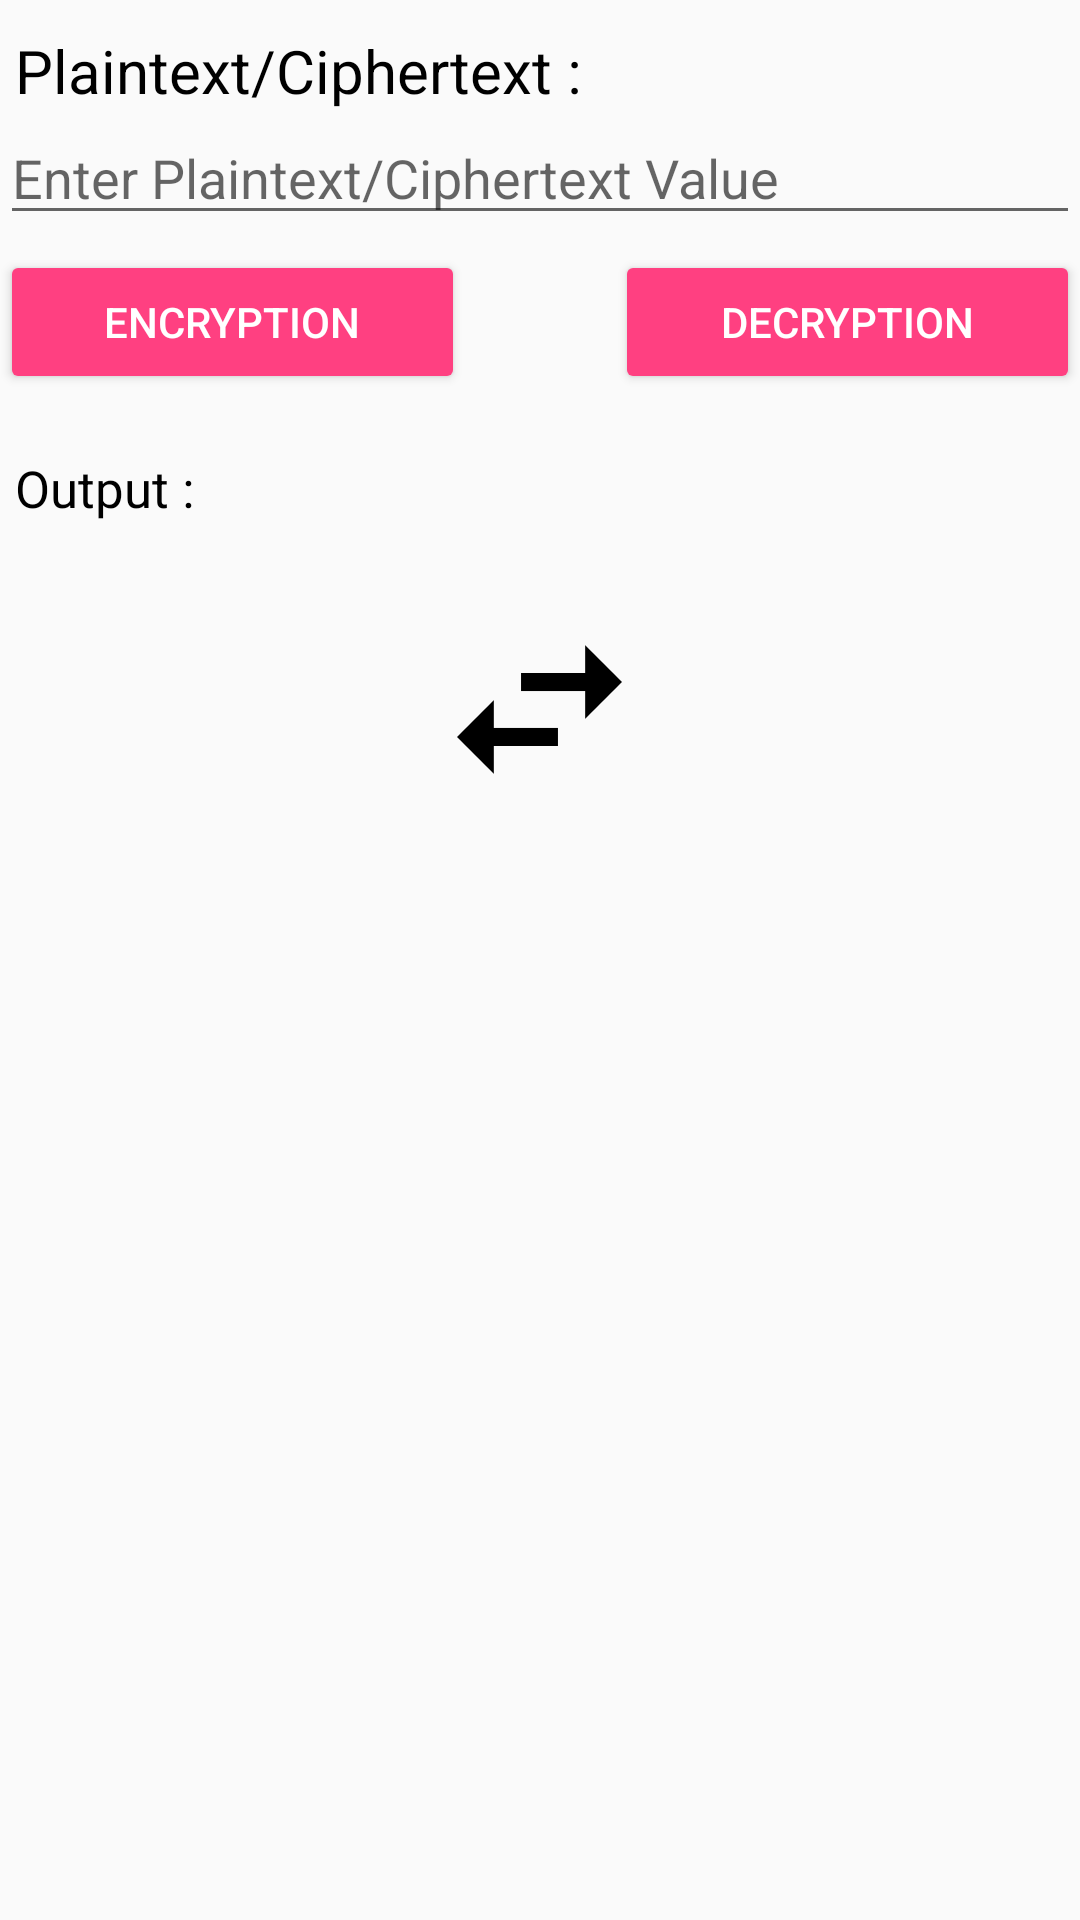

Point at icon controls on the screen. Image size 1080 × 1920, points as (x=x, y=y).
swap: (x=539, y=709)
